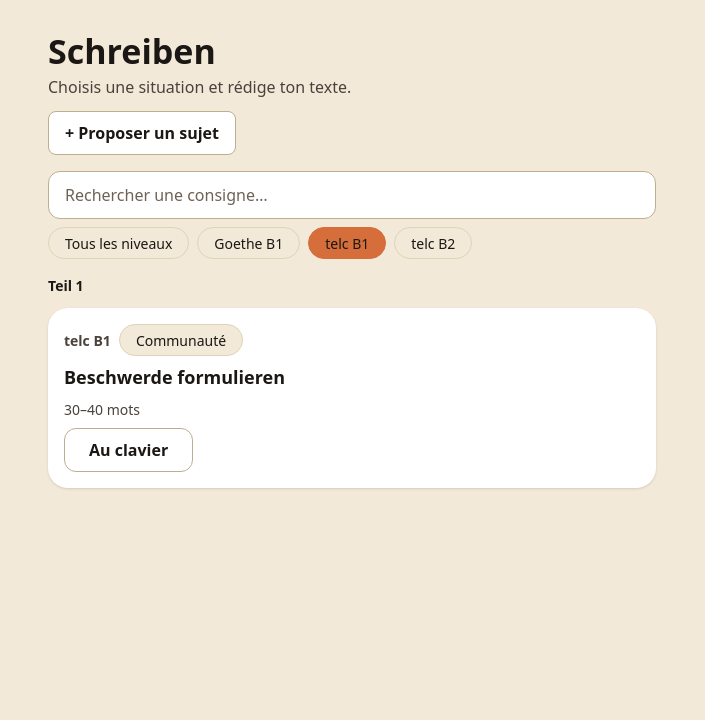
PromptListScreen — Schreiben prompt list (S6 Task 6.6) › ?board=telc-b1 seeds the filter exactly once and clears the param; a subsequent chip tap wins over the seed
Check: the element with test id "schreiben-prompt-p2" is shown, box [48,308,656,488]
Click the button with test id "schreiben-prompt-list-chip-all": (119, 243) [48,227,189,259]
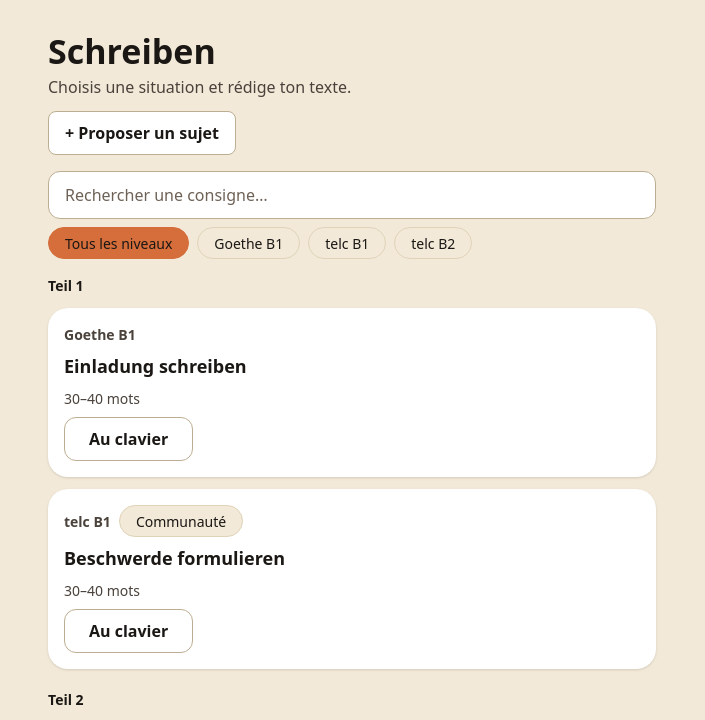
Check: the element with test id "schreiben-prompt-p1" is shown, box [48,308,656,477]
